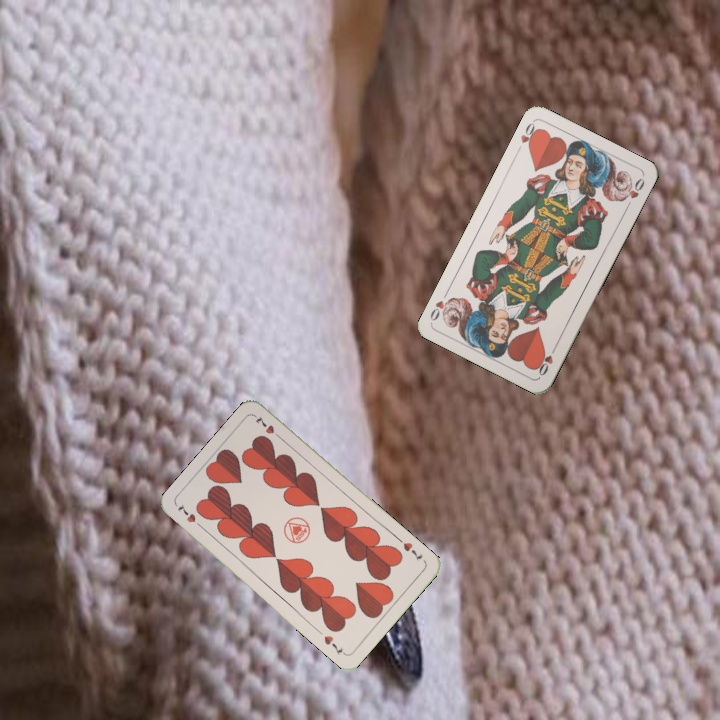H7: (174, 500, 206, 532), (394, 534, 425, 564)
HO: (513, 118, 542, 156), (533, 341, 560, 378)
